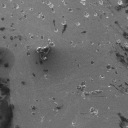corrosion: (36, 45, 51, 61), (89, 107, 99, 117), (83, 11, 90, 18), (60, 19, 67, 26), (13, 3, 19, 10), (75, 21, 81, 27), (42, 68, 49, 73), (106, 64, 111, 71), (20, 80, 26, 85), (53, 28, 59, 33), (46, 1, 51, 6), (31, 105, 36, 110), (1, 26, 6, 31), (98, 1, 104, 5)
